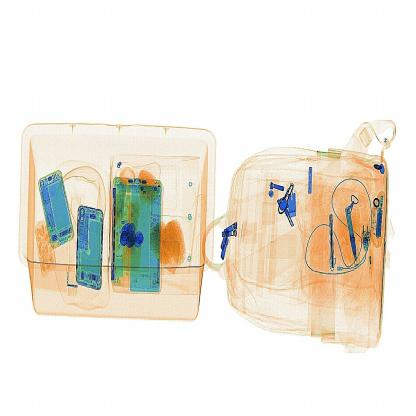knife: (324, 212, 338, 271)
